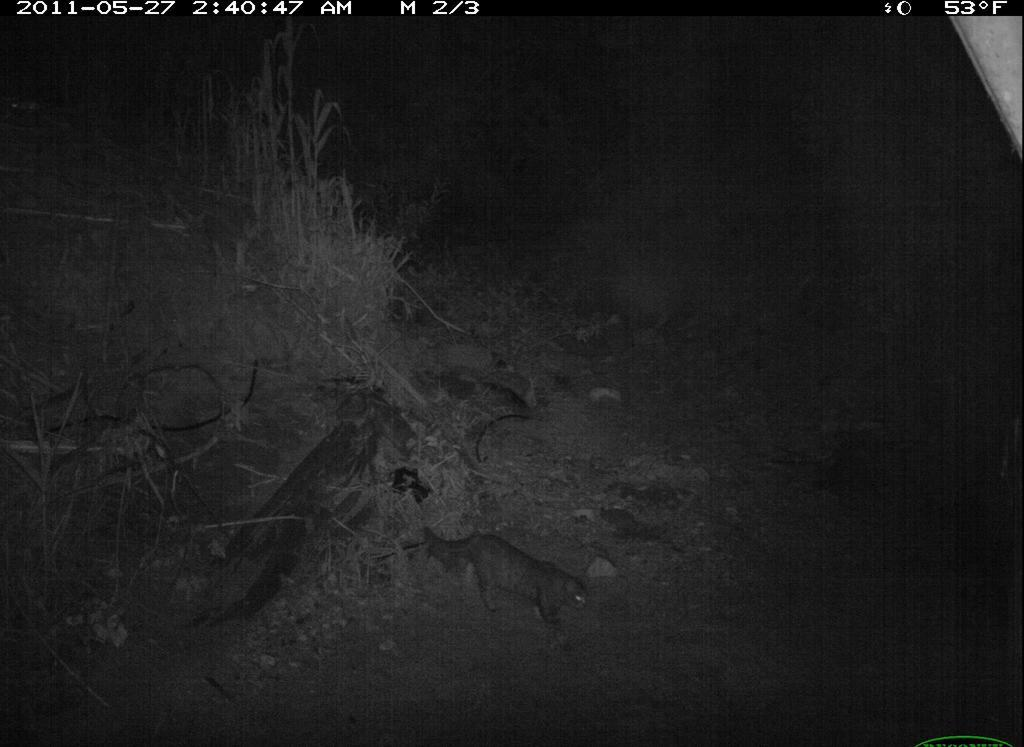cat: (423, 513, 602, 641)
